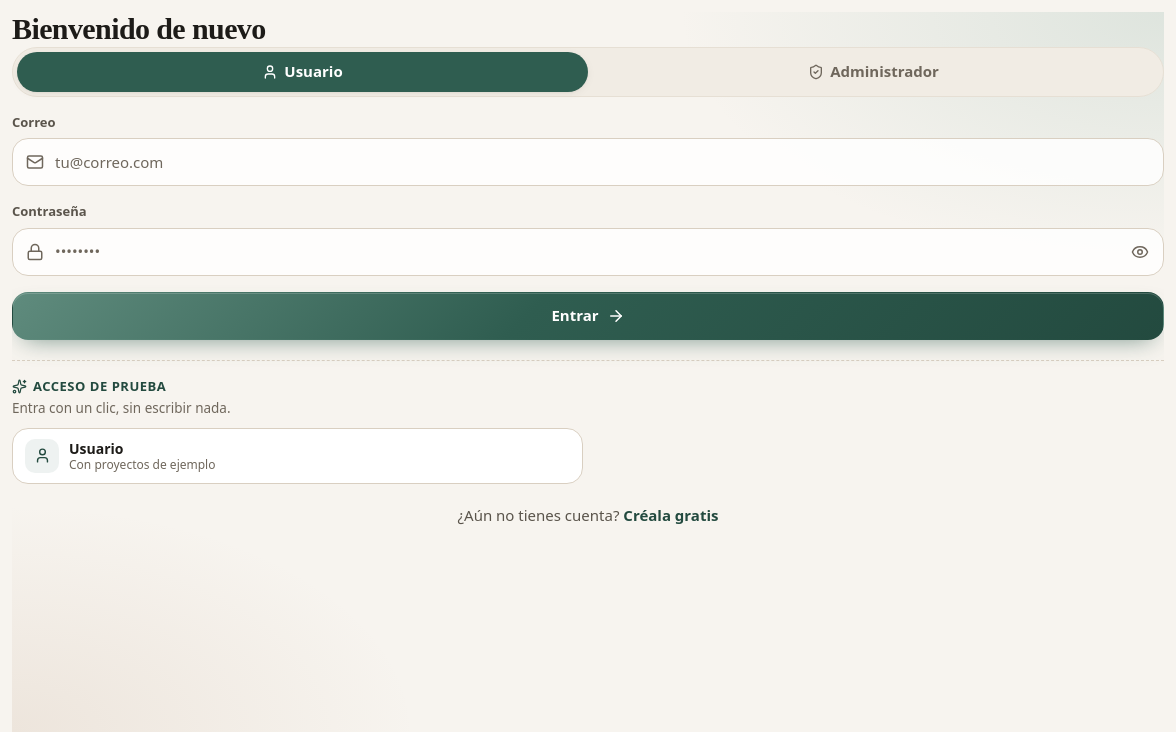
it: Login page › welcomes a demo account with its configured greeting
What coordinates should you click on to do the following:
click the button with aria-label "usuario de prueba"
I would click on:
 (42, 456)
Its box is 12,428 -> 583,484.
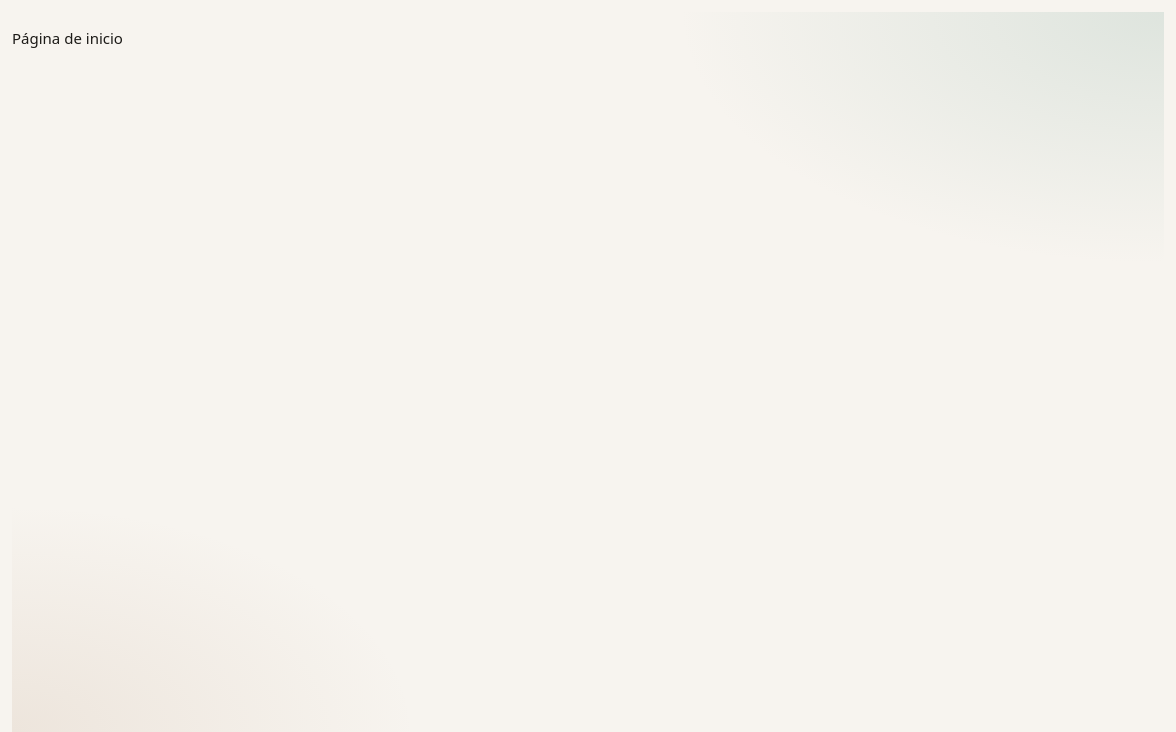
Expected: the text "Página de inicio" is shown, 12,28 -> 123,48
